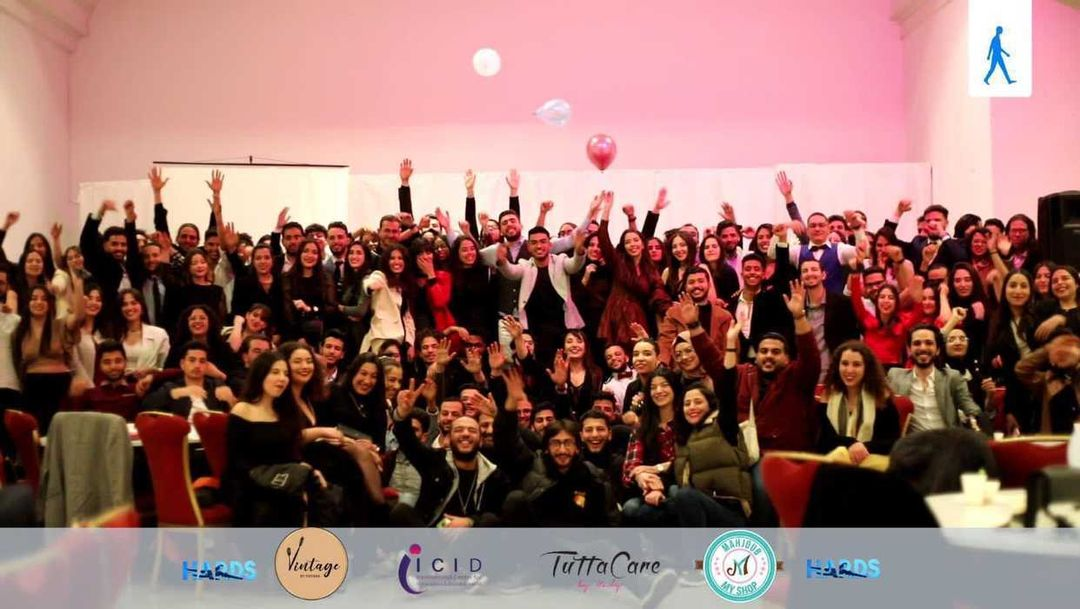without_mask: (452, 424, 481, 453), (911, 336, 938, 362), (839, 358, 865, 383), (289, 355, 313, 381), (758, 345, 781, 371), (584, 424, 608, 448), (681, 397, 707, 419), (552, 439, 575, 463), (685, 276, 708, 298), (806, 219, 829, 241), (649, 382, 671, 405), (356, 369, 378, 391), (634, 349, 654, 373), (1008, 280, 1030, 301), (564, 335, 584, 357), (187, 355, 206, 378), (301, 247, 320, 269), (501, 216, 520, 237), (253, 255, 273, 274), (531, 238, 549, 258), (802, 266, 820, 285), (625, 237, 643, 256), (744, 265, 761, 285), (346, 249, 364, 267), (670, 243, 689, 260), (389, 256, 406, 272), (704, 243, 720, 259)
